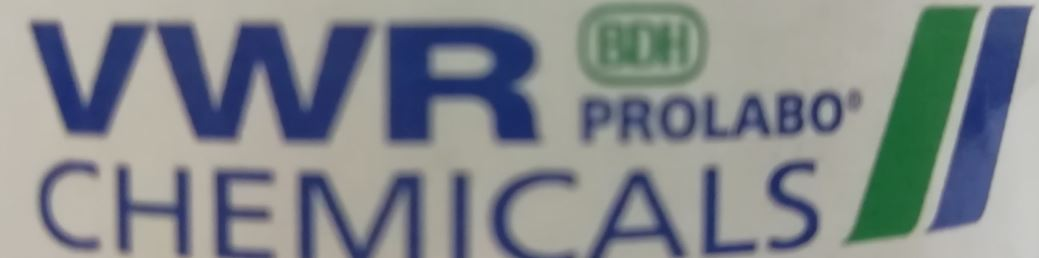VWR: (23, 3, 1039, 257)
